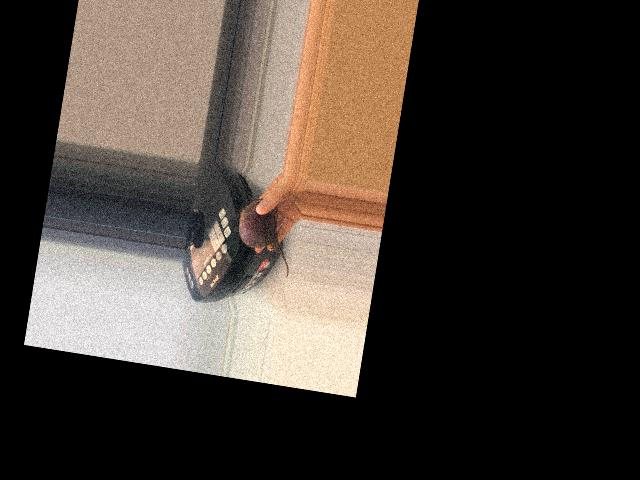beet: (229, 196, 299, 278)
